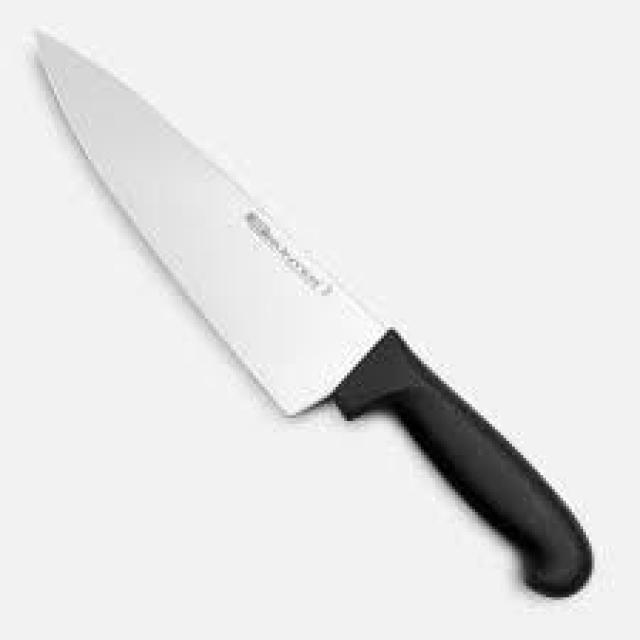Knife: (13, 17, 617, 611)
